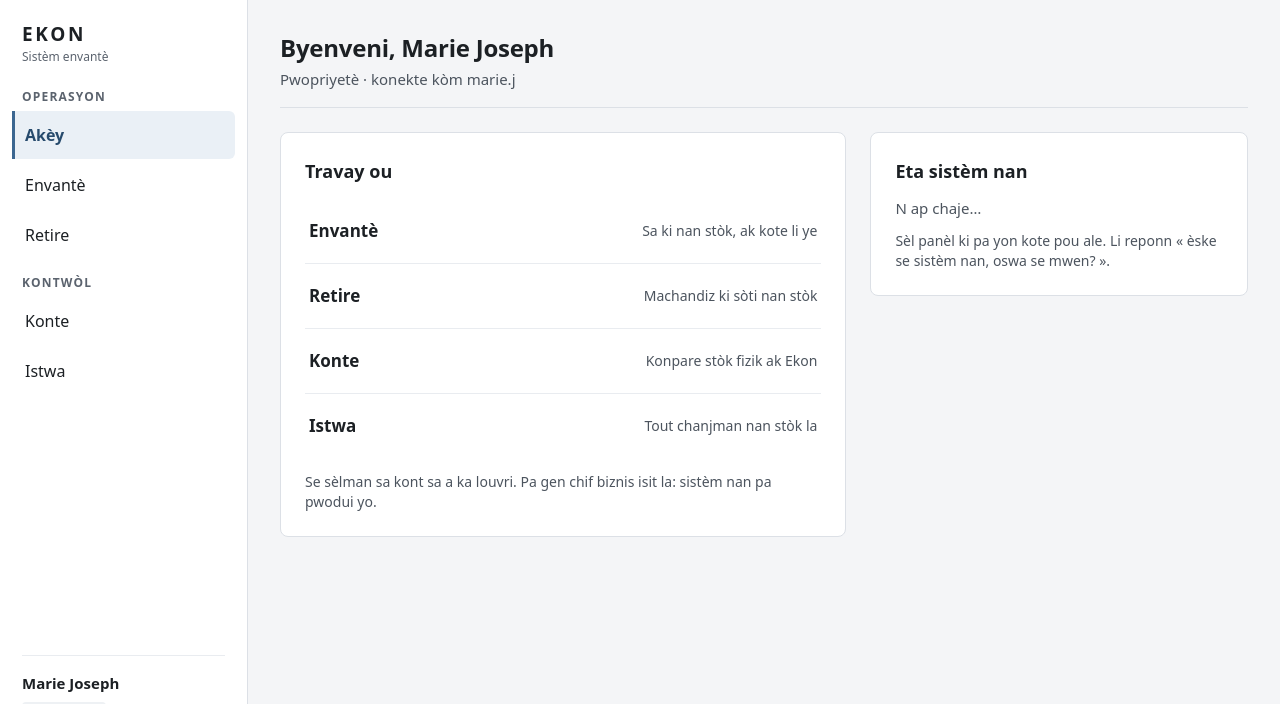
where the choices come from › shares the stock screen cache rather than reading the same answer twice
The image size is (1280, 704).
Expected: the text "Marie Joseph" is shown, [22,672,119,692]
Click the button "Retire".
click(124, 234)  # box [12,210,235,258]
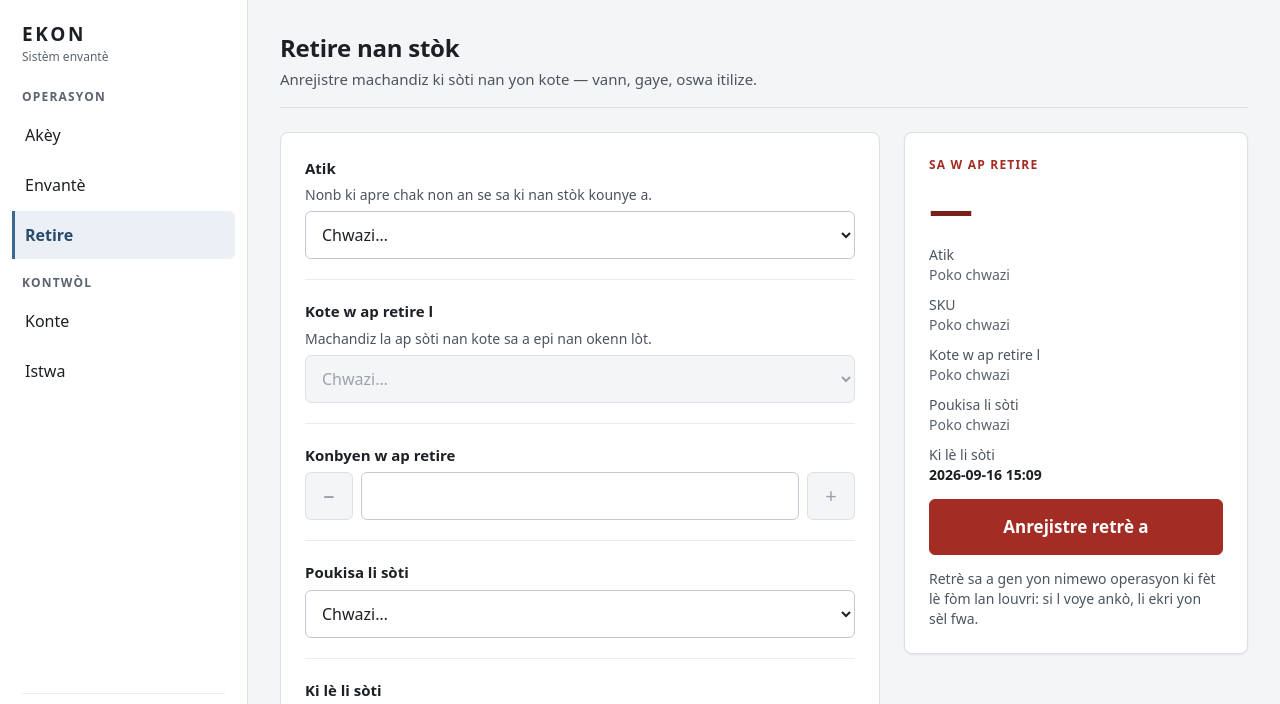
Expected: the heading "Retire nan stòk" is shown, [280,31,459,64]
Click the button "Envantè".
click(124, 184)  # box [12,160,235,208]
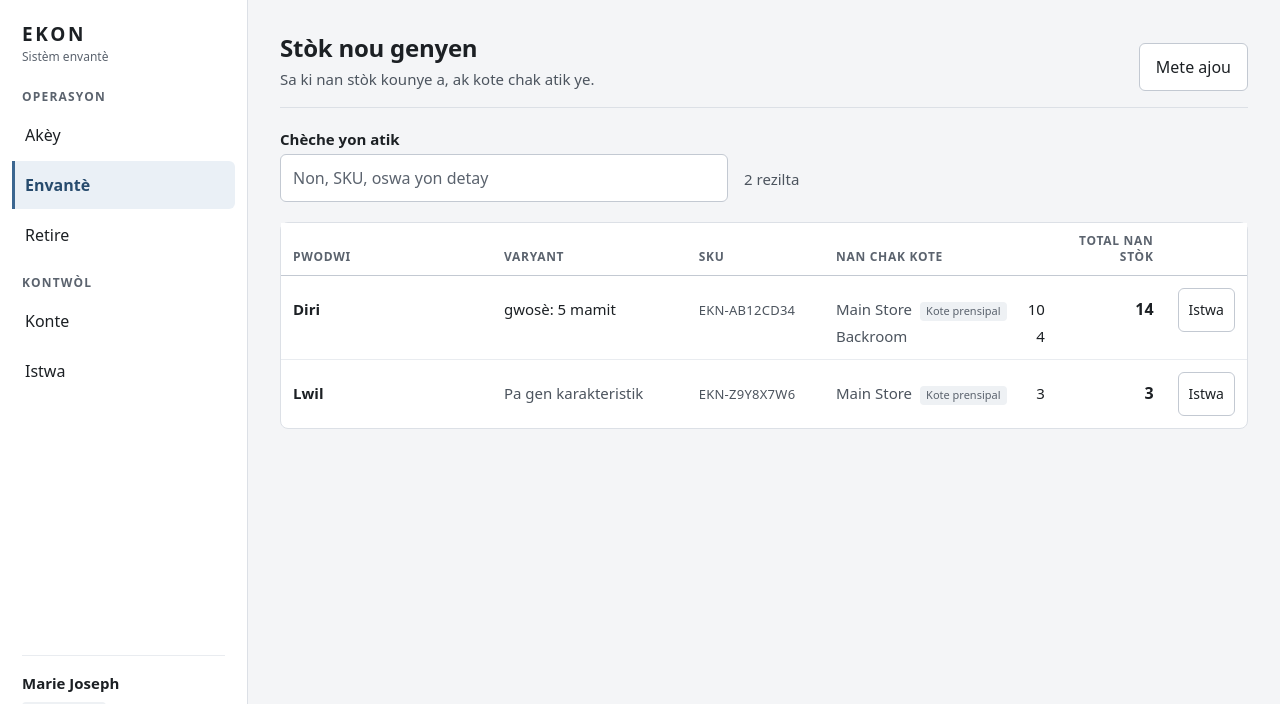
Expected: the heading "Stòk nou genyen" is shown, [280,31,477,64]
